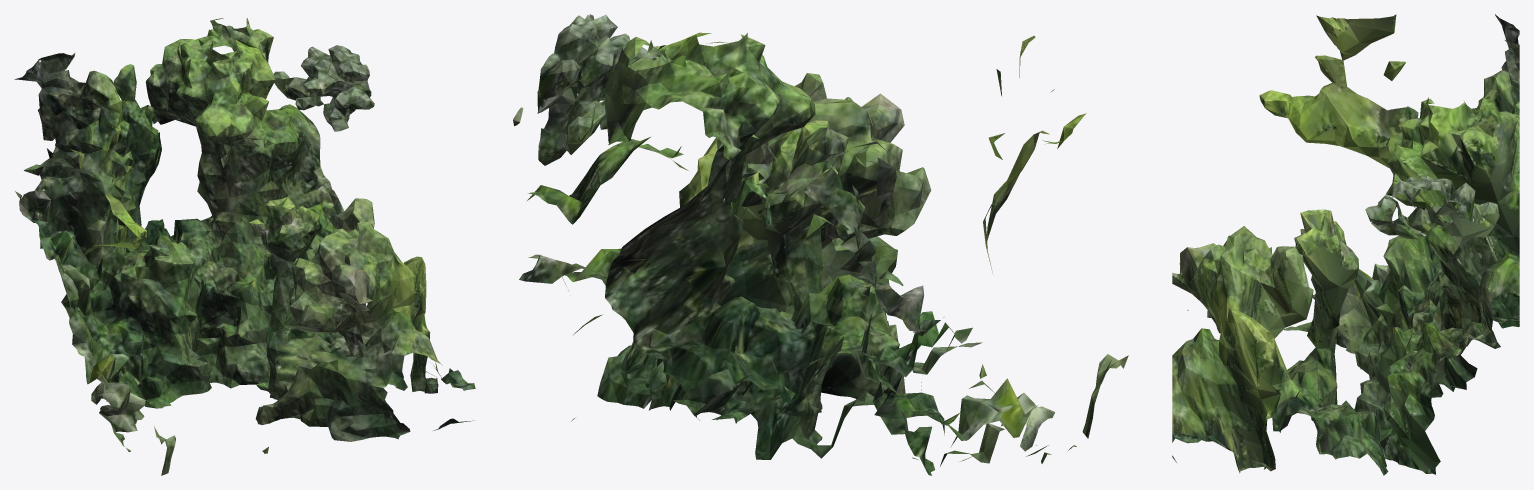
3 views of the same model, side by side, from view 1: azimuth 30°, elevation 25°; view 2: azimuth 150°, elevation 25°; view 3: azimuth 270°, elevation 25° (orthographic). The views are drawn at different scales.
Size of the model in its own units: 26.11 by 26.11 by 26.11.
9 materials, 9 textured.
